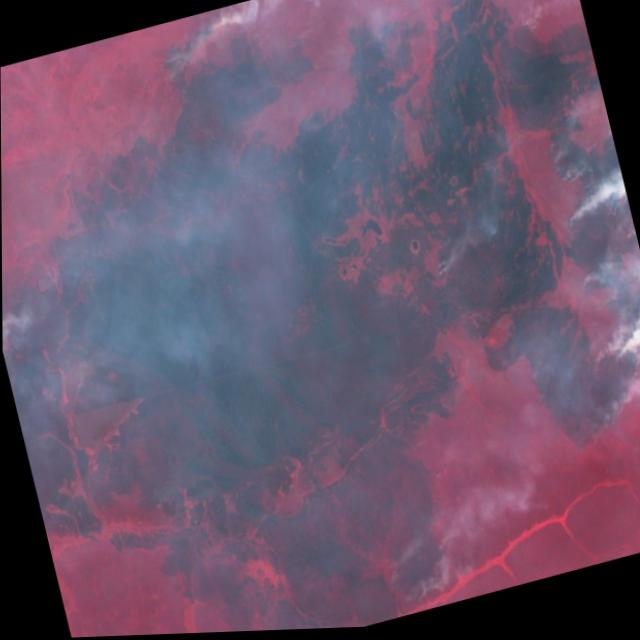fire: (435, 0, 640, 469), (128, 0, 323, 109), (352, 456, 474, 624)
